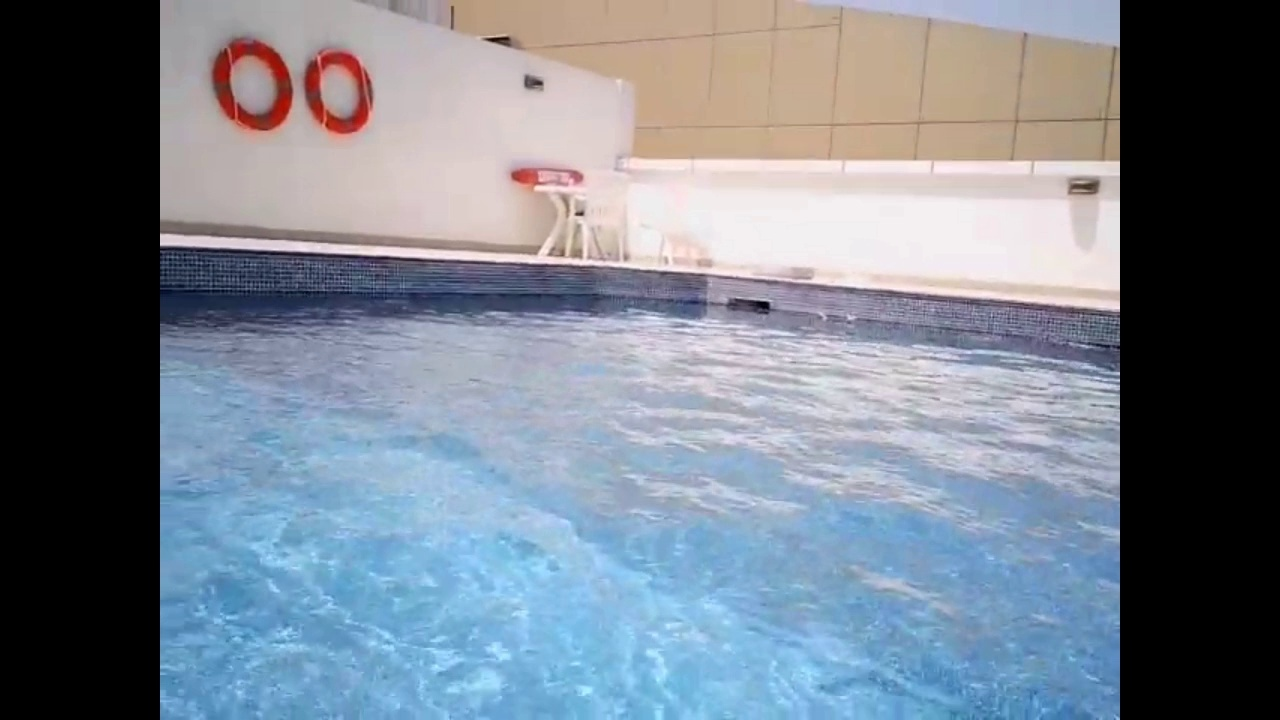debris: (807, 305, 833, 324), (838, 311, 861, 331)
